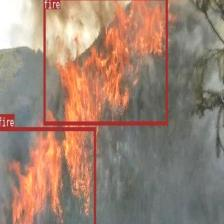fire: (43, 0, 167, 125), (0, 126, 95, 224)
